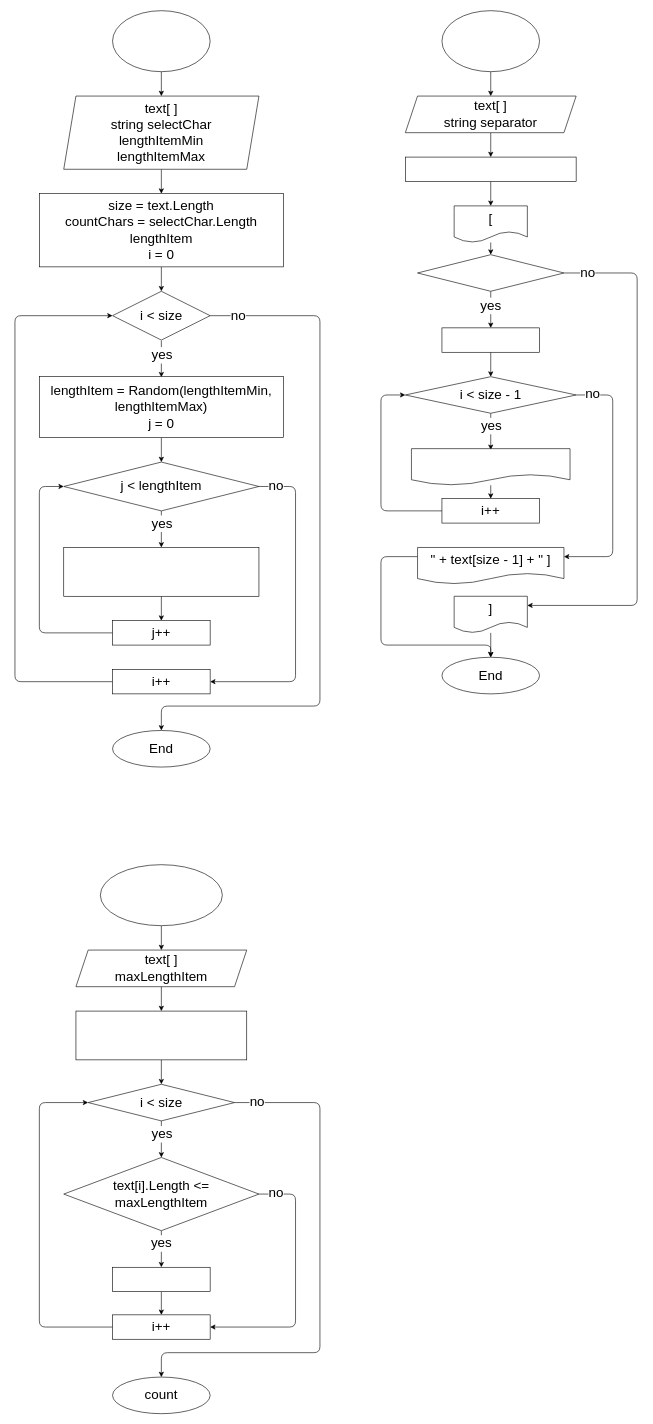
The diagram is 653 pixels wide and 1424 high, and some of its shapes have lost their labels. The centre of each missing label's shape, as x and y in pixels:
" + text[i] + " + separator: (x=490, y=466)
Calculate CountItems FitLength: (x=161, y=895)
count++: (x=161, y=1279)
FillArray Strings Random: (x=161, y=41)
i = 0: (x=490, y=339)
PrintArray Strings: (x=490, y=41)
size = text.Length: (x=490, y=168)
size = text.Length count = 0 i = 0: (x=161, y=1035)
size > 0: (x=490, y=272)
text[i] += selectChar[Random (0, countChars)]: (x=161, y=571)
